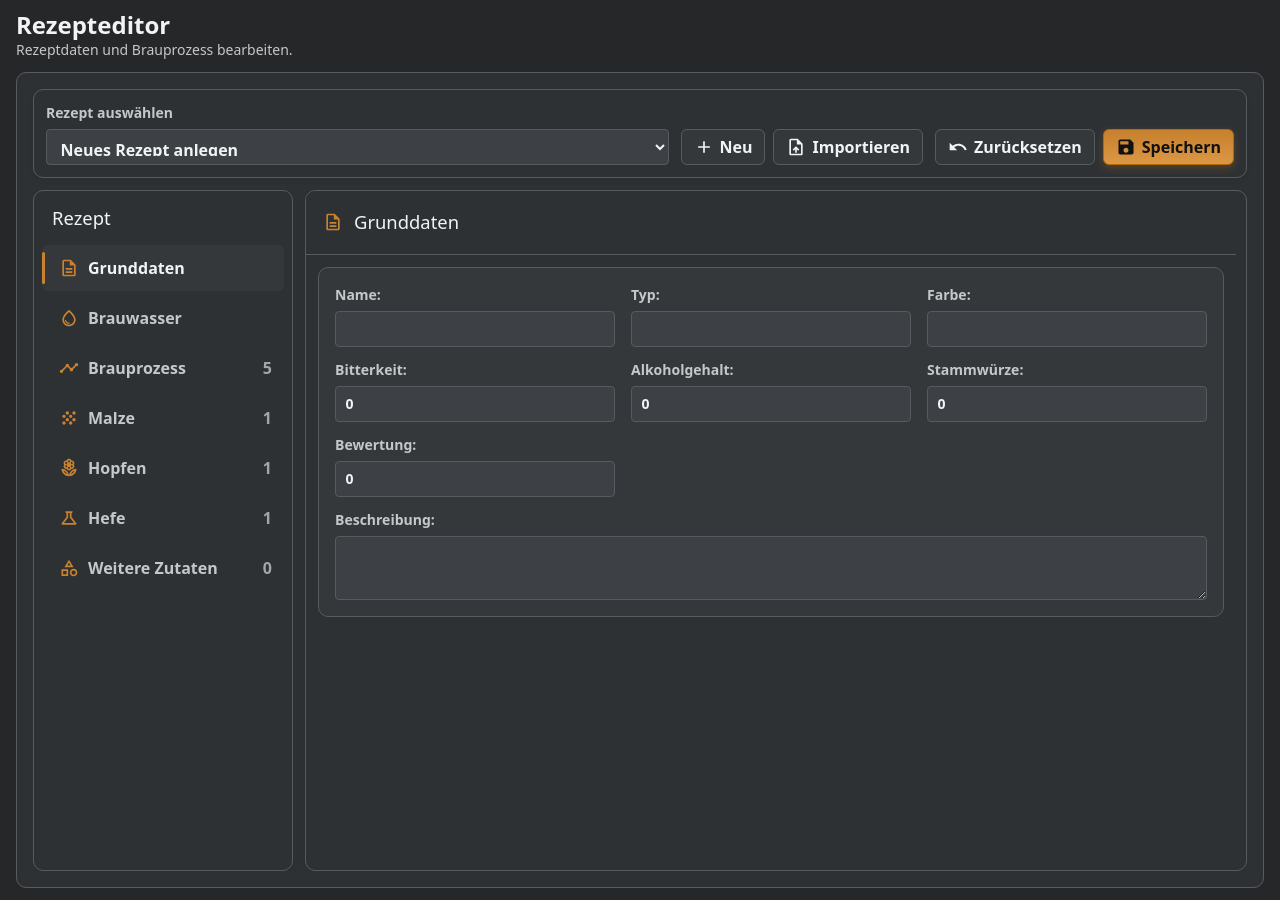
Test: BeerForm section navigation › labels rest and decoction fields by their process meaning
Step 1. Click the button "Brauprozess 5" → (163, 368), box [42, 345, 284, 391]
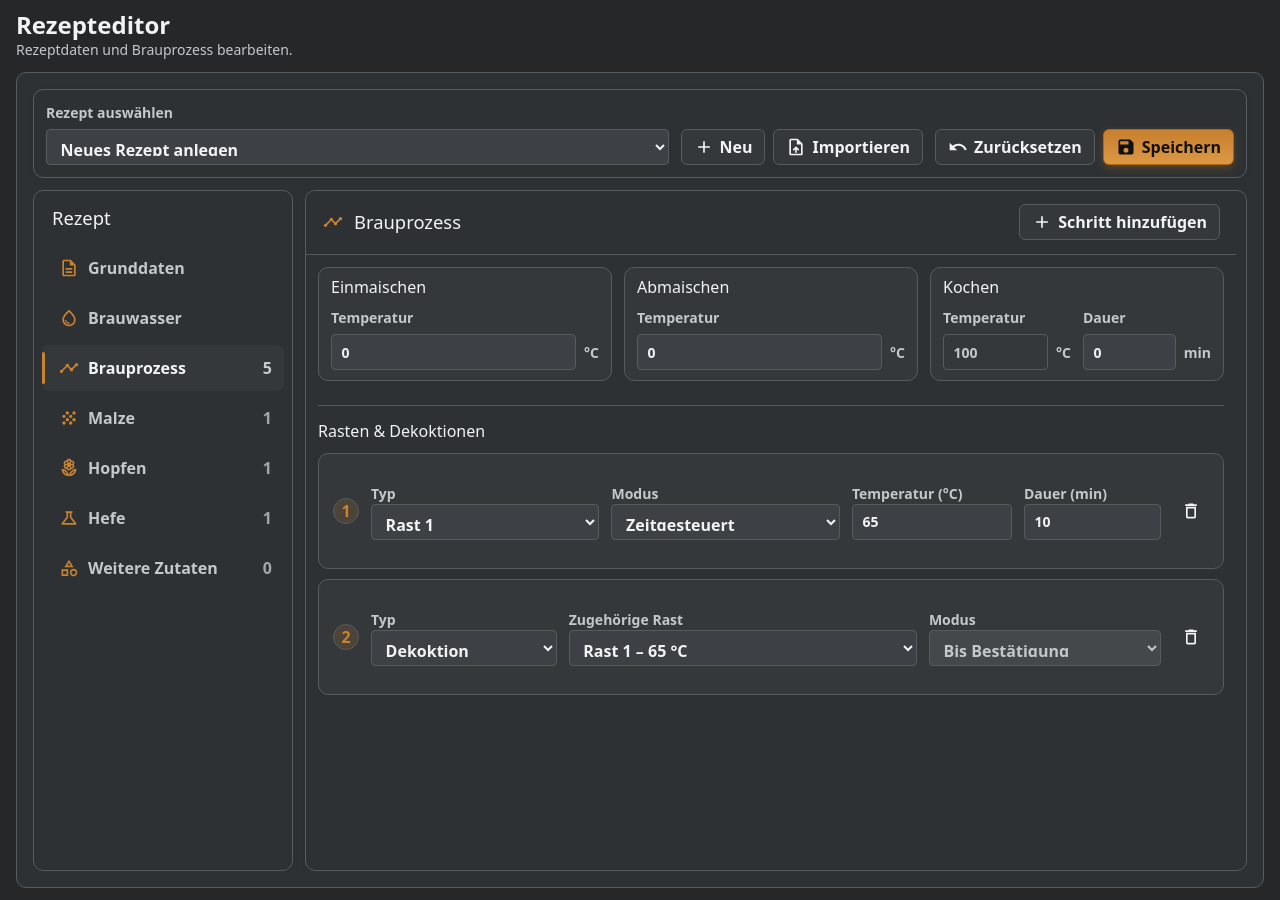
Result: the number of dropdowns labelled "Typ " is 2 at [371, 504, 600, 540]; [371, 630, 557, 666]
Result: the dropdown labelled "Modus " below "Temperatur (°C)" is enabled at [612, 504, 840, 540]
Result: the number field labelled "Dauer (min)" is shown at [1024, 504, 1161, 540]
